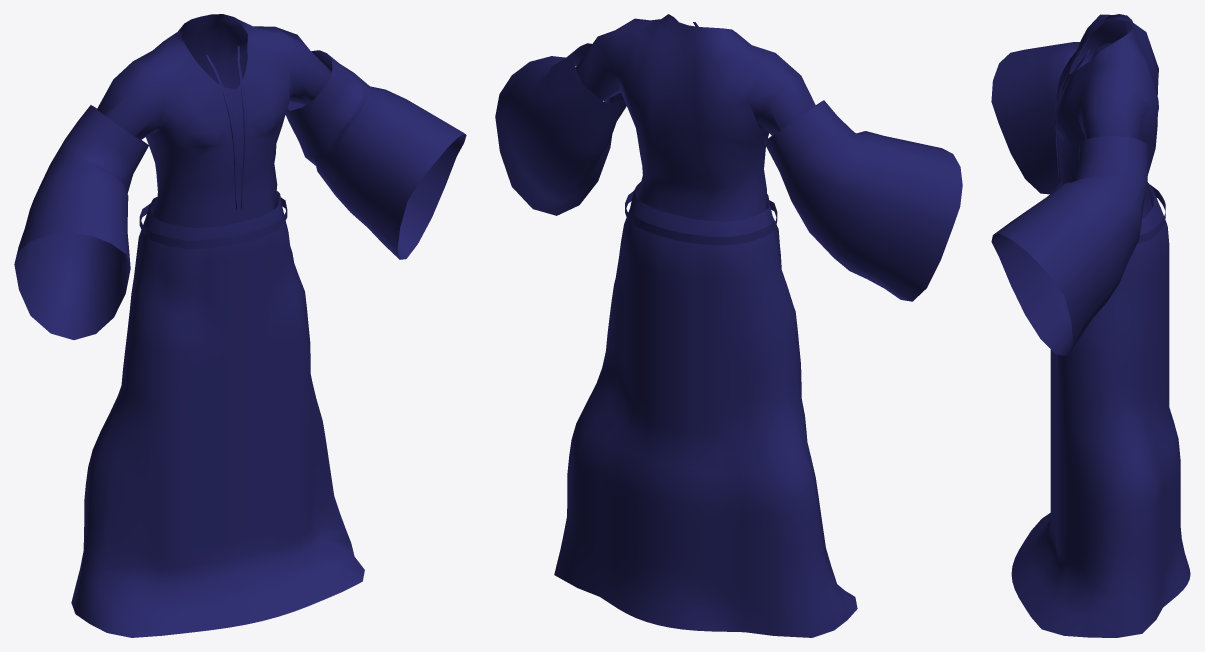
The model's file is wizard_robe.glb.
The picture shows the model from 3 angles, left to right: view 1: azimuth 30°, elevation 25°; view 2: azimuth 150°, elevation 25°; view 3: azimuth 270°, elevation 25°; orthographic projection. The views are drawn at different scales.
Visible parts, largest first — view 1: wizard_robe; view 2: wizard_robe; view 3: wizard_robe.
Boxes of the visible parts, x1=… form: wizard_robe: x1=14, y1=14, x2=466, y2=637; wizard_robe: x1=495, y1=14, x2=962, y2=637; wizard_robe: x1=991, y1=14, x2=1190, y2=637.
Size of the model in its own units: 1.25 by 1.5 by 0.4931.
